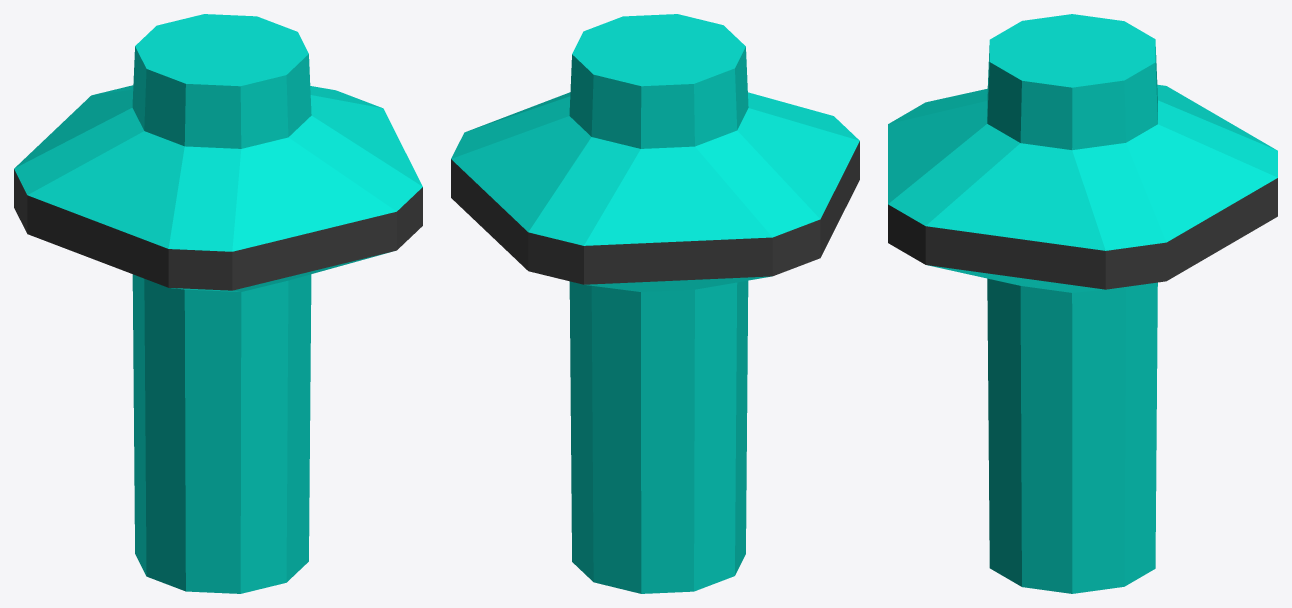
File: BounceTrap.fbx
3 renders of one model, left to right at view 1: azimuth 30°, elevation 25°; view 2: azimuth 150°, elevation 25°; view 3: azimuth 270°, elevation 25°, orthographic.
Parts seen in each view (by area): view 1: BouncePoll; view 2: BouncePoll; view 3: BouncePoll.
Part boxes in pixels (bbox=[...]): BouncePoll: bbox=[14, 14, 422, 593]; BouncePoll: bbox=[451, 14, 859, 593]; BouncePoll: bbox=[888, 14, 1277, 593].
Size of the model in its own units: 40.28 by 54.87 by 38.3.
